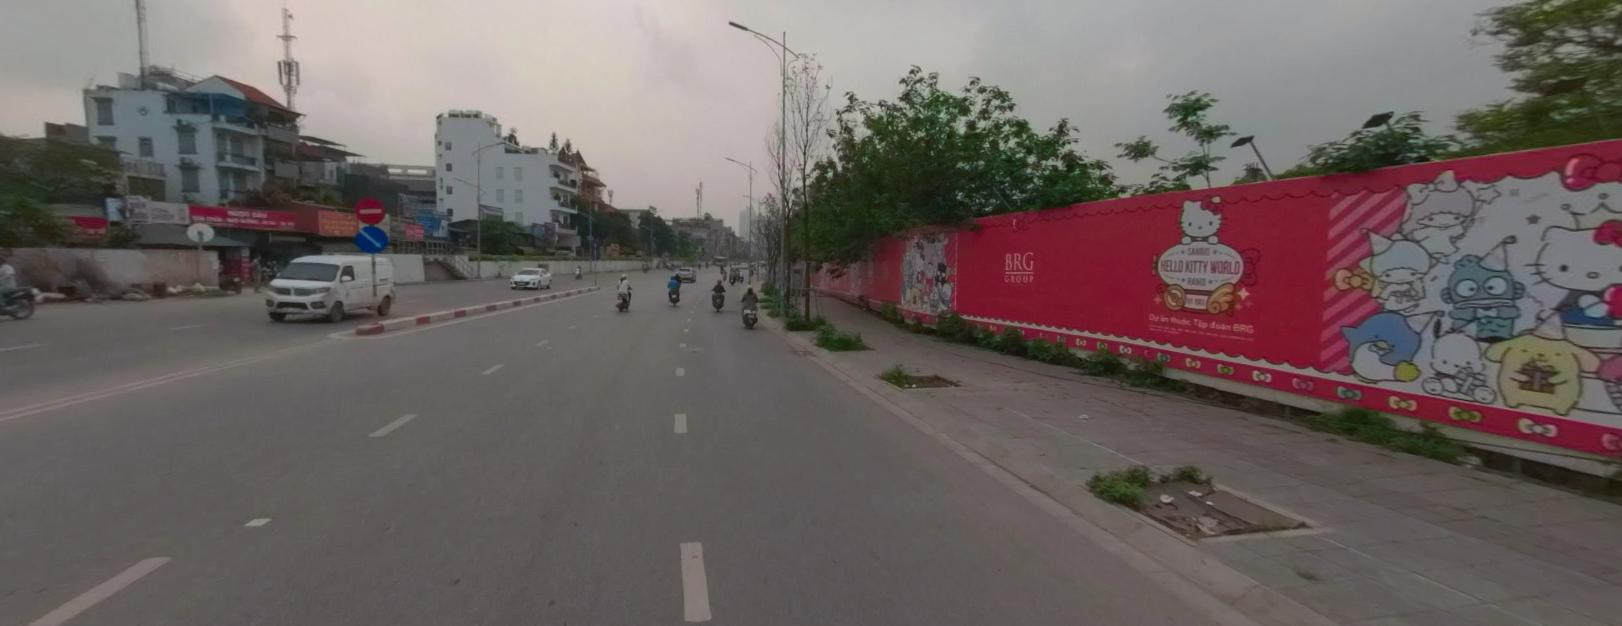Cam nguoc chieu: (355, 197, 382, 223)
Hieu lenh: (355, 223, 386, 250)
